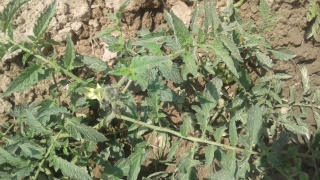tomato diseased leaf: (146, 124, 168, 158)
tomato flower: (80, 78, 108, 104)
tomato plant: (93, 4, 273, 106), (148, 88, 305, 180), (4, 74, 140, 175)
